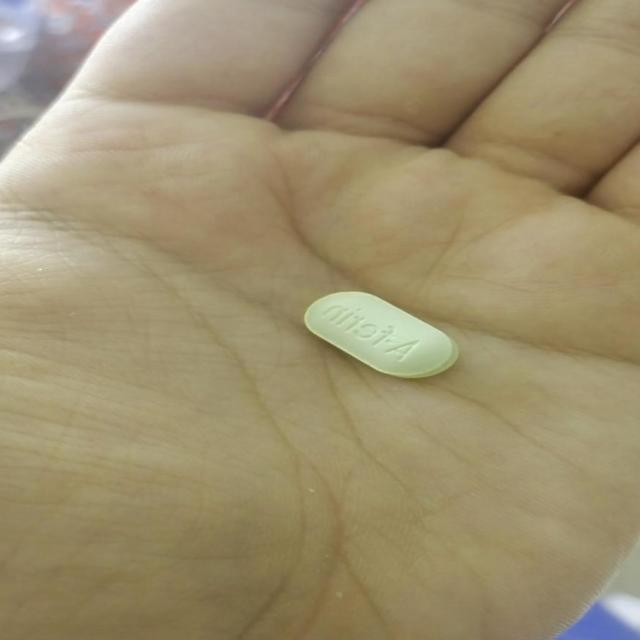pill: (291, 289, 473, 385)
